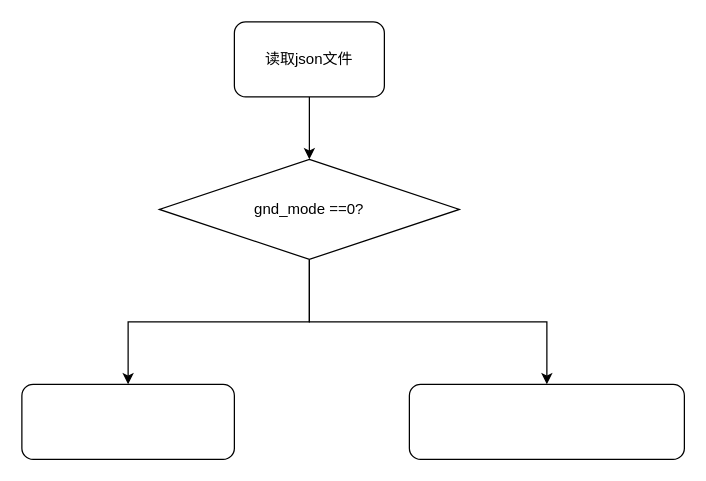
Image size: 706x481. Some labels were removed from this diagram. The shapes that lost their labels are listed below. From the top down, each one's centre as x and y in pixels, then its label:
the point at 127,421: 不算ElectricField_above_lossy 直接Er_lossy=Er_T
the point at 546,421: 将json中的epr和sig、dt传给ElectricField_above_lossy
